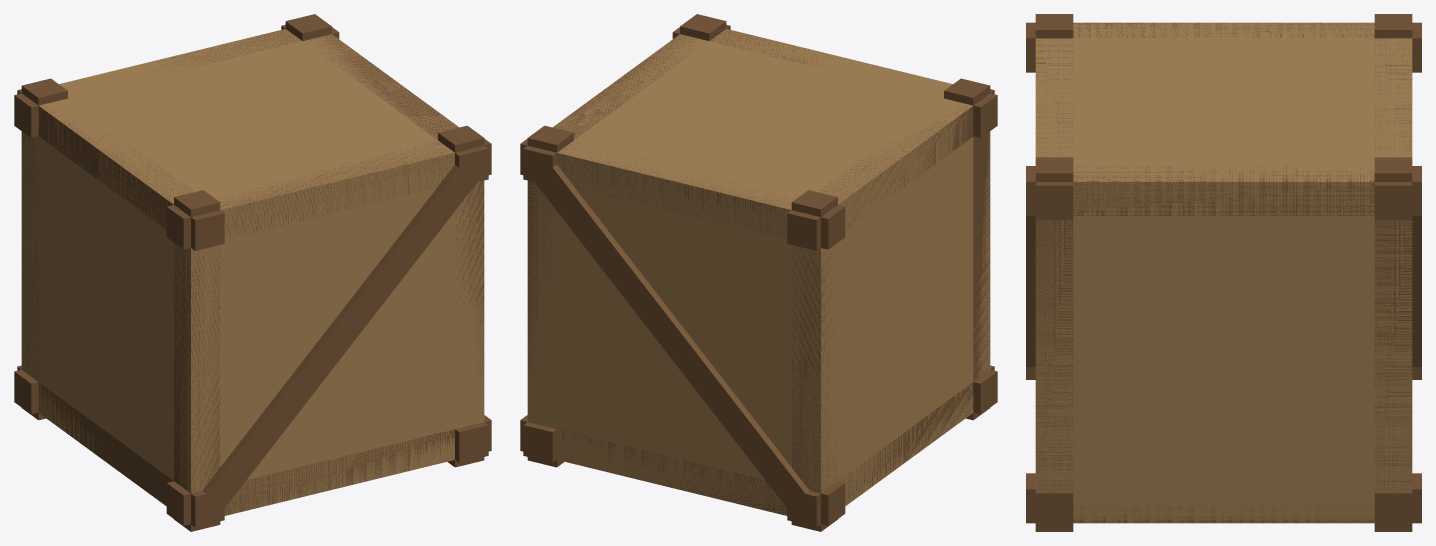
Rendered from crate.glb.
3 views of the same model, side by side, from view 1: azimuth 30°, elevation 25°; view 2: azimuth 150°, elevation 25°; view 3: azimuth 270°, elevation 25° (orthographic). The views are drawn at different scales.
Visible parts, largest first — view 1: main; view 2: main; view 3: main.
Boxes of the visible parts, x1,y1,x2,y2 form: main: (14,14,491,531); main: (520,14,997,531); main: (1026,14,1421,531).
Size of the model in its own units: 0.84 by 0.84 by 0.84.
